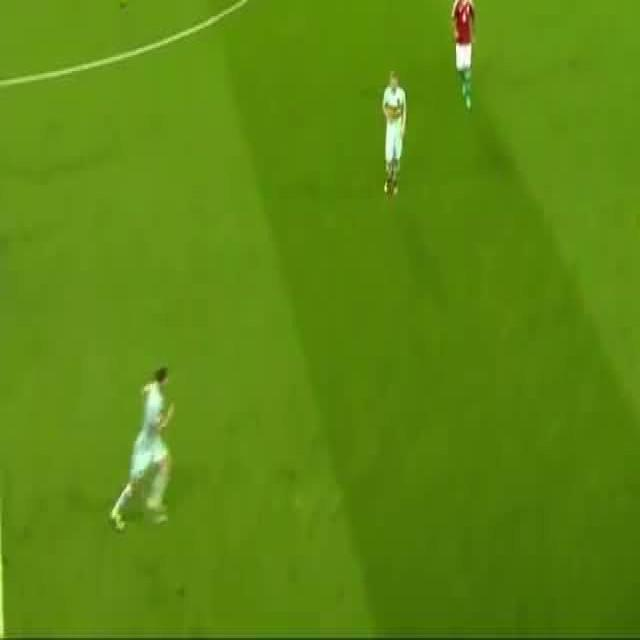player-white: (110, 369, 174, 531), (382, 70, 406, 193), (453, 0, 475, 108), (112, 0, 142, 2)
